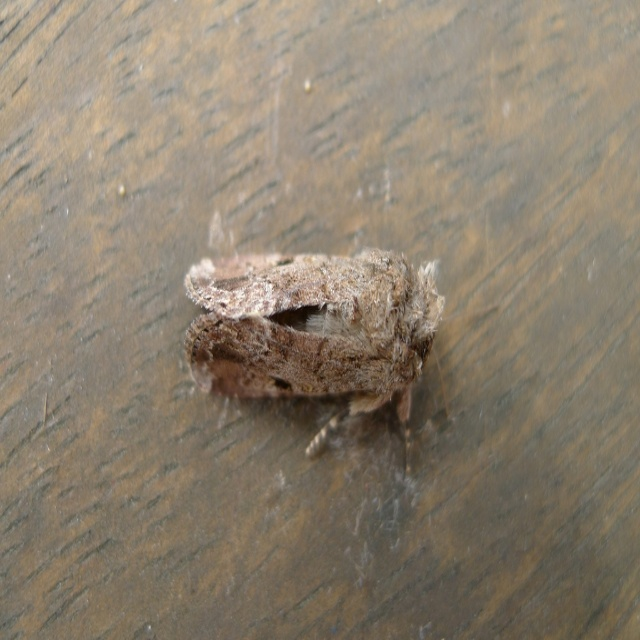Moths and butterflies: (184, 244, 504, 491)
